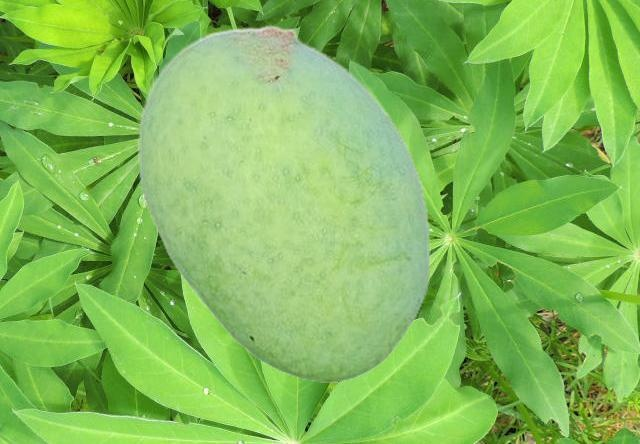green_mango: (138, 24, 429, 381)
